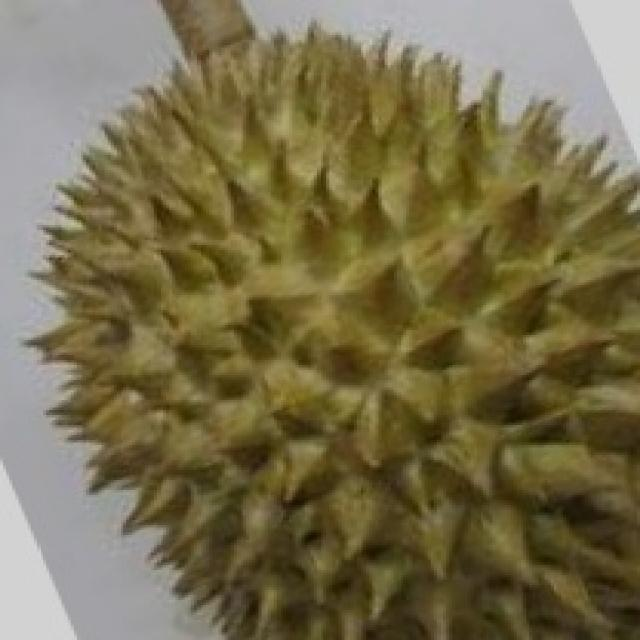fruit: (0, 252, 375, 639)
